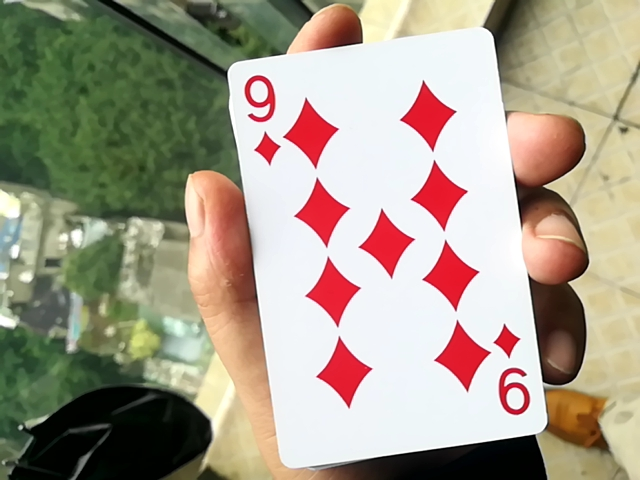fk 9: (209, 15, 548, 464)
